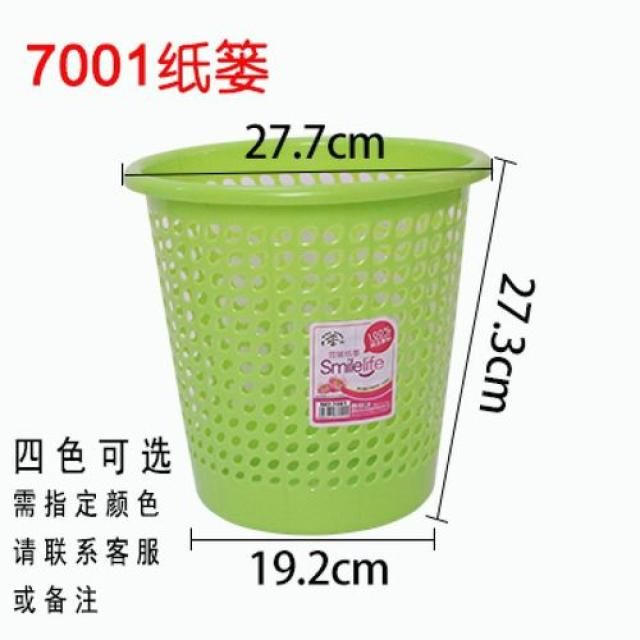dustbin: (119, 131, 505, 541)
